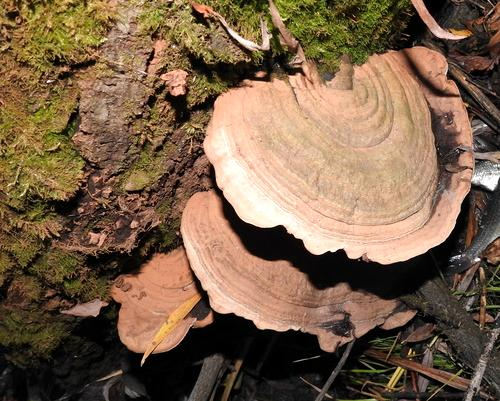Ganoderma - Fruit Body: (204, 43, 486, 262), (110, 264, 418, 356)
